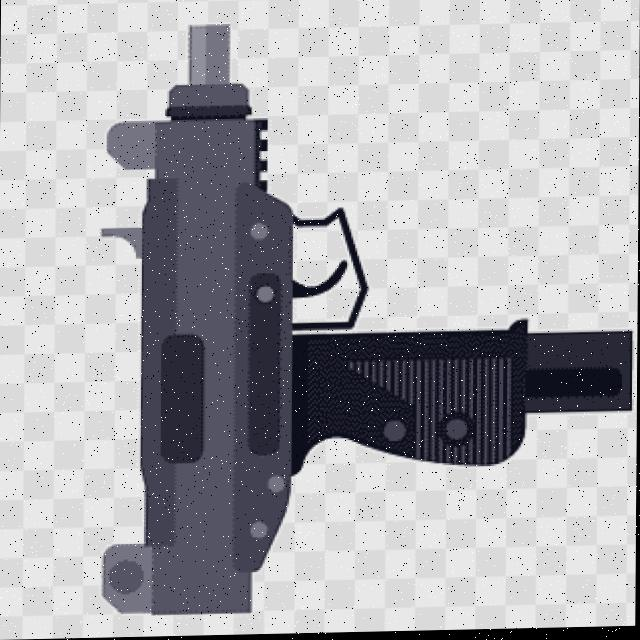firearm: (96, 19, 640, 621)
